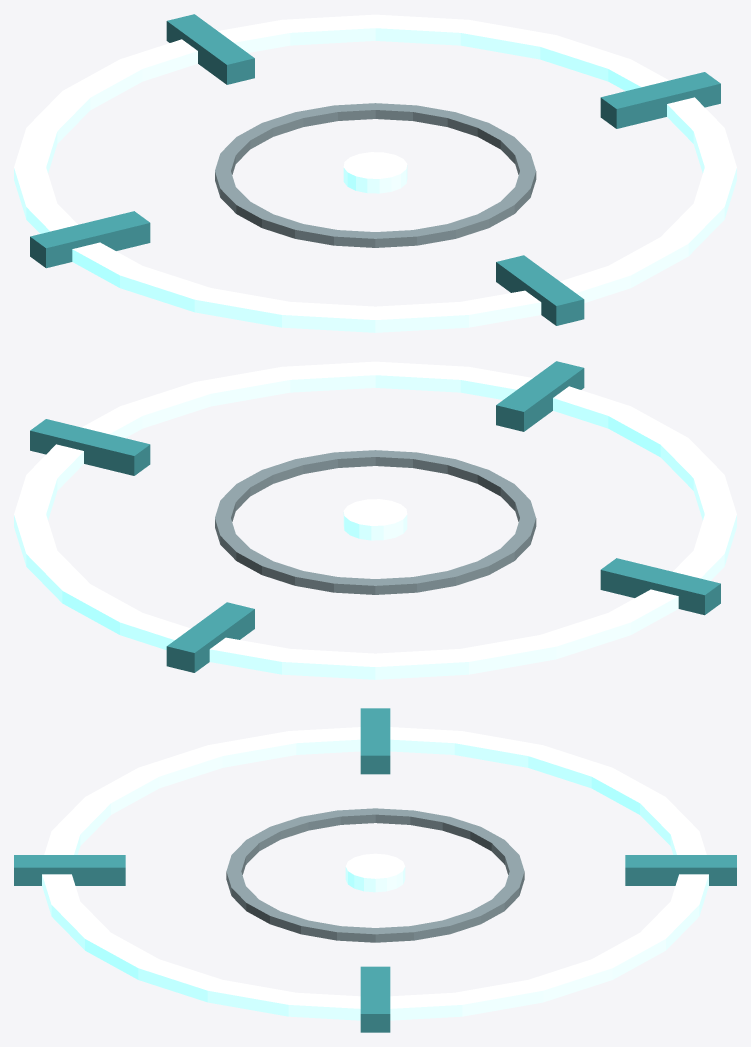
The model's file is orbital-field-station-landing-target-marker__162.glb.
3 renders of one model, top to bottom at view 1: azimuth 30°, elevation 25°; view 2: azimuth 150°, elevation 25°; view 3: azimuth 270°, elevation 25°, orthographic. The views are drawn at different scales.
Visible parts, largest first — view 1: light, accent, metal; view 2: light, accent, metal; view 3: light, metal, accent.
Boxes of the visible parts, x1=… form: light: x1=14, y1=14, x2=736, y2=332; accent: x1=30, y1=14, x2=720, y2=325; metal: x1=215, y1=103, x2=536, y2=247; light: x1=14, y1=361, x2=736, y2=679; accent: x1=30, y1=361, x2=720, y2=672; metal: x1=215, y1=450, x2=536, y2=594; light: x1=42, y1=727, x2=708, y2=1020; metal: x1=226, y1=808, x2=524, y2=942; accent: x1=14, y1=708, x2=736, y2=1032.
Size of the model in its own units: 1.94 by 0.055 by 1.94.
